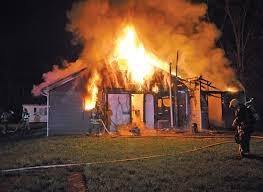fire: (110, 25, 167, 87), (83, 69, 100, 111), (222, 84, 239, 93)
